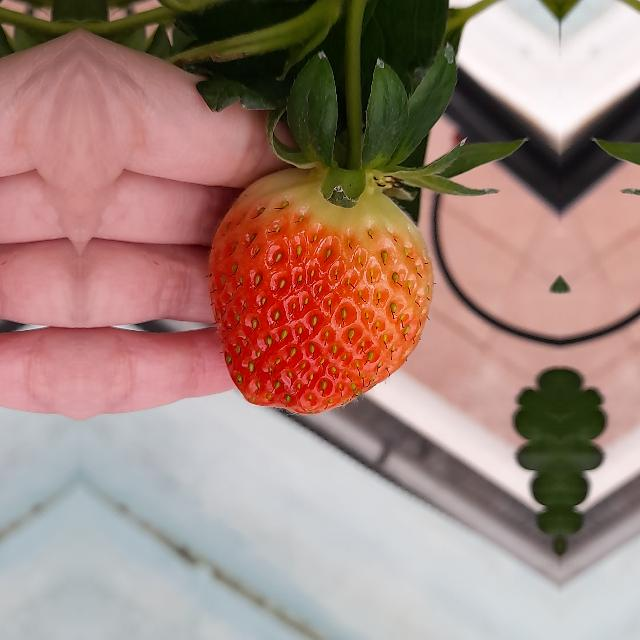Health_100: (208, 167, 434, 415)
